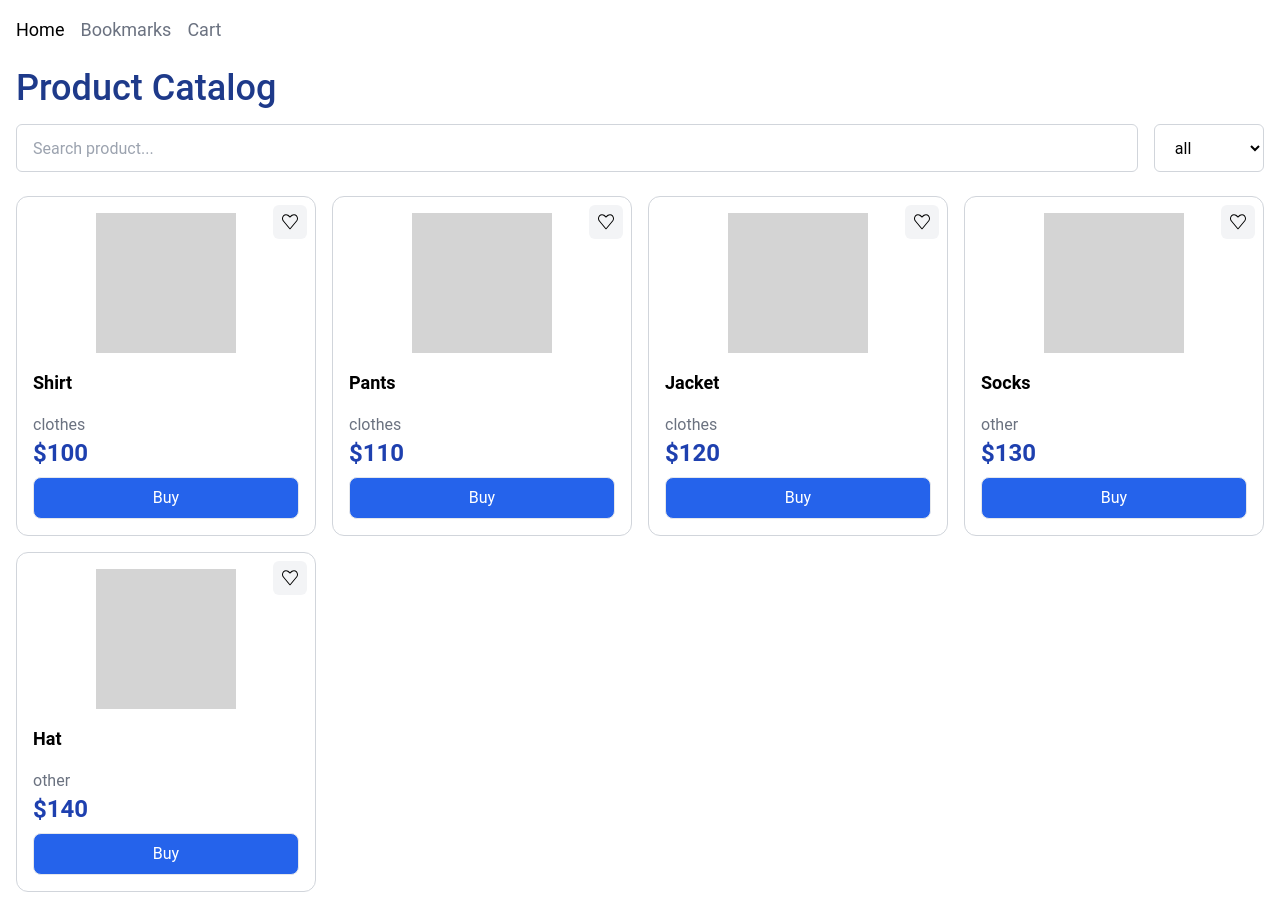
Test case: App › Moving to bookmarks page when it's empty
Click the link "Bookmarks": (126, 30) [80,19,171,40]
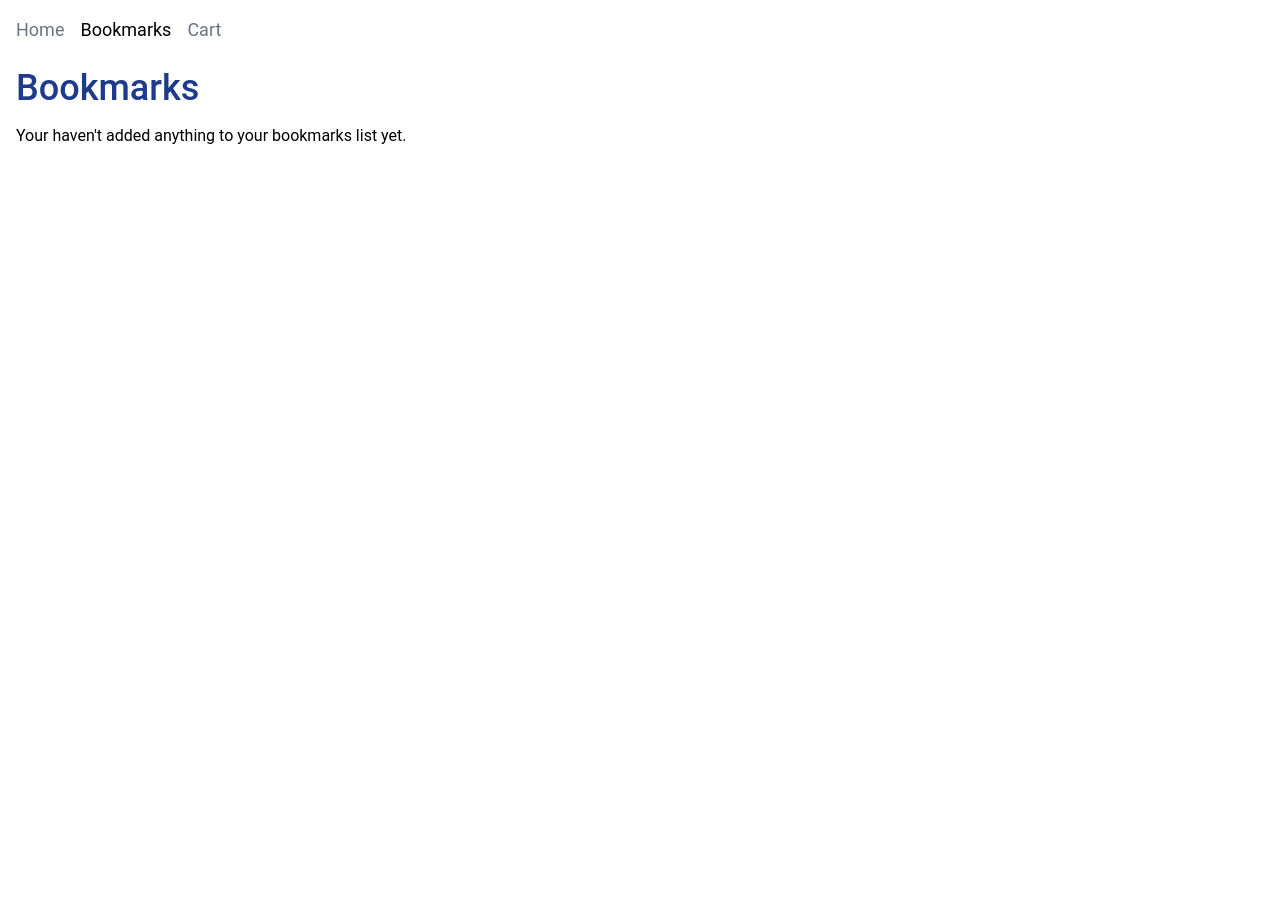
Expected: the text "Your haven't added anything to your bookmarks list yet." is shown, [16,126,406,145]
